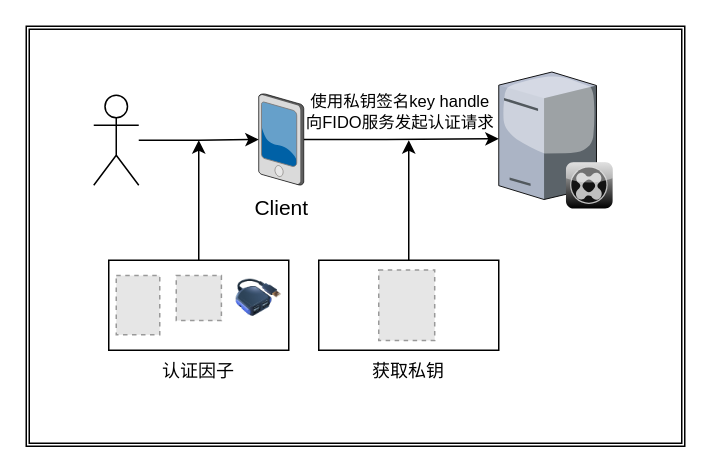
This 711x473 diagram has some shape labels left out. Grey dashed boxes stand in for pictures. Here are the shapes that lost their labels. From the top down, the centre of each, then its label:
At point 115,139: "Actor".
At point 555,139: "FIDO服务".
